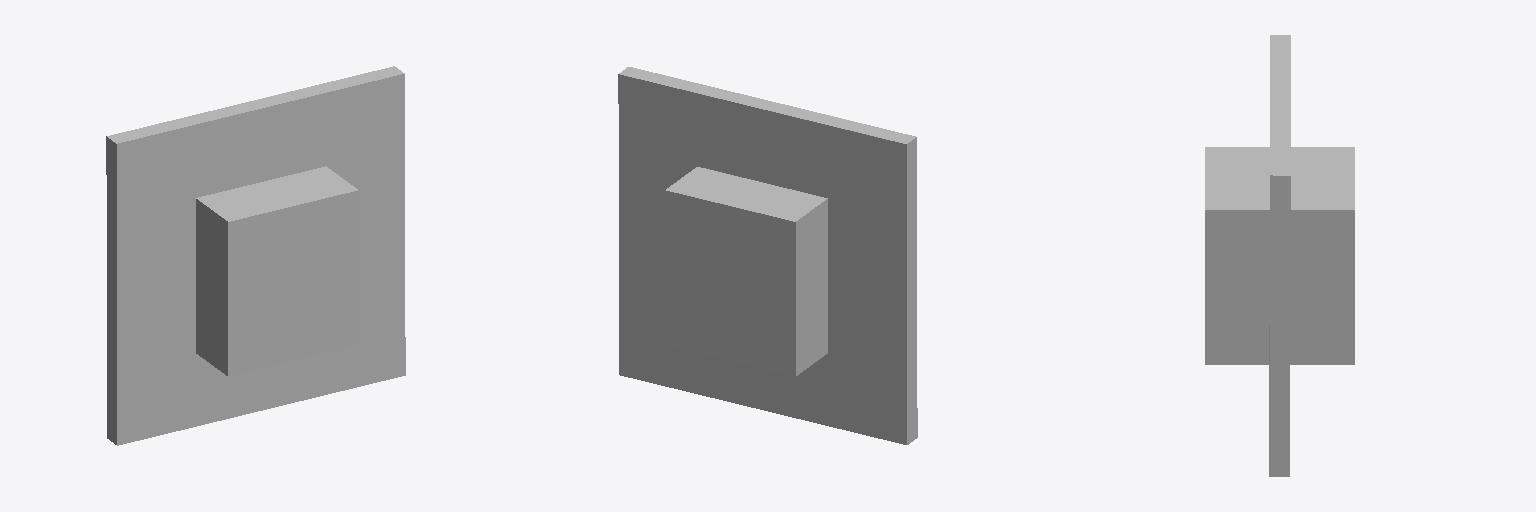
File: Platform.obj
3 views of the same model, side by side, from view 1: azimuth 30°, elevation 25°; view 2: azimuth 150°, elevation 25°; view 3: azimuth 270°, elevation 25° (orthographic).
Visible parts, largest first — view 1: Cube.001, Cube.008, Cube.002, Cube.004, Cube.006, Cube.009, Cube.007, Cube.003, Cube, Cube.005; view 2: Cube.001, Cube.008, Cube.002, Cube.004, Cube.006, Cube.009, Cube.007, Cube.003, Cube, Cube.005; view 3: Cube.001, Cube.004, Cube.003, Cube.002, Cube.005, Cube.009.
Part boxes in pixels (bbox=[...]): Cube.001: bbox=[196, 166, 358, 376]; Cube.008: bbox=[107, 186, 187, 387]; Cube.002: bbox=[178, 82, 340, 184]; Cube.004: bbox=[341, 133, 404, 328]; Cube.006: bbox=[188, 350, 340, 427]; Cube.009: bbox=[106, 119, 187, 202]; Cube.007: bbox=[107, 371, 188, 445]; Cube.003: bbox=[331, 66, 404, 147]; Cube: bbox=[188, 148, 340, 370]; Cube.005: bbox=[341, 318, 405, 390]; Cube.001: bbox=[665, 167, 827, 376]; Cube.008: bbox=[836, 186, 916, 387]; Cube.002: bbox=[683, 82, 845, 185]; Cube.004: bbox=[619, 133, 682, 328]; Cube.006: bbox=[683, 350, 835, 427]; Cube.009: bbox=[835, 120, 916, 202]; Cube.007: bbox=[836, 371, 917, 444]; Cube.003: bbox=[618, 67, 691, 147]; Cube: bbox=[683, 149, 835, 369]; Cube.005: bbox=[619, 318, 682, 390]; Cube.001: bbox=[1205, 147, 1354, 364]; Cube.004: bbox=[1269, 234, 1290, 418]; Cube.003: bbox=[1270, 144, 1290, 233]; Cube.002: bbox=[1270, 70, 1290, 143]; Cube.005: bbox=[1269, 419, 1289, 476]; Cube.009: bbox=[1270, 35, 1290, 69].
Bounding box in the file's own units: 7.72 × 7.73 × 3.5.